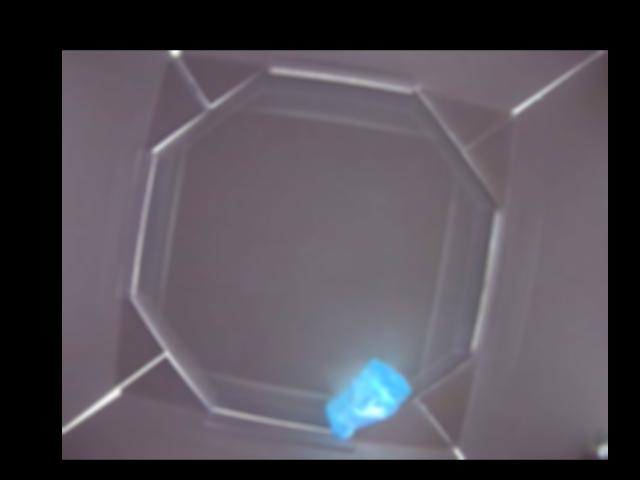Carrot: (327, 359, 411, 438)
